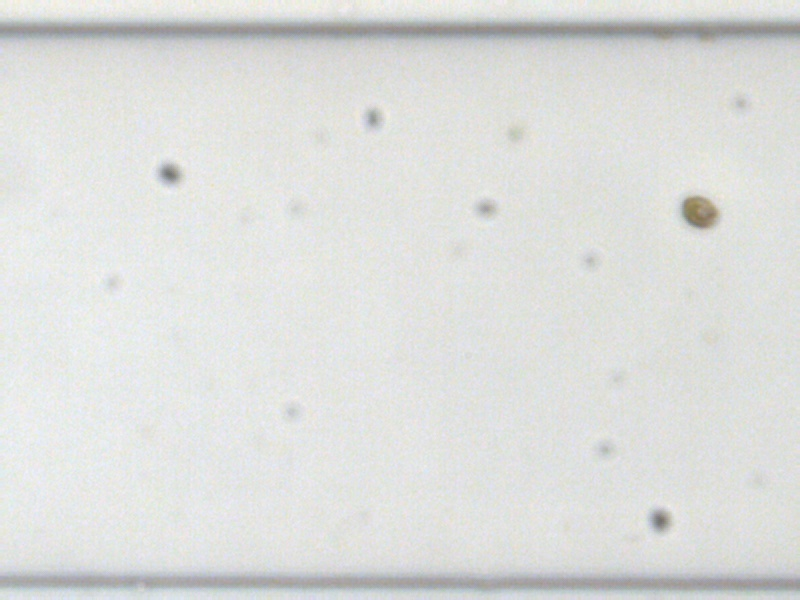Chlorella: (506, 126, 523, 141)
Effrenium: (678, 192, 720, 229)
